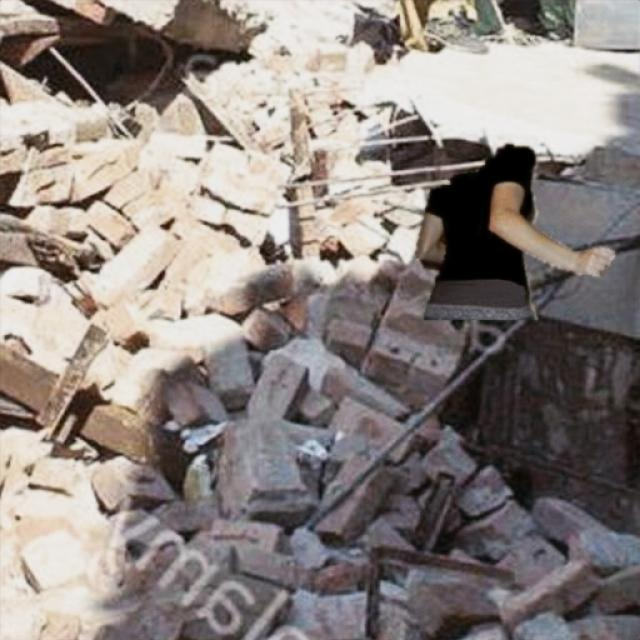Person in Rubble: (415, 144, 614, 318)
